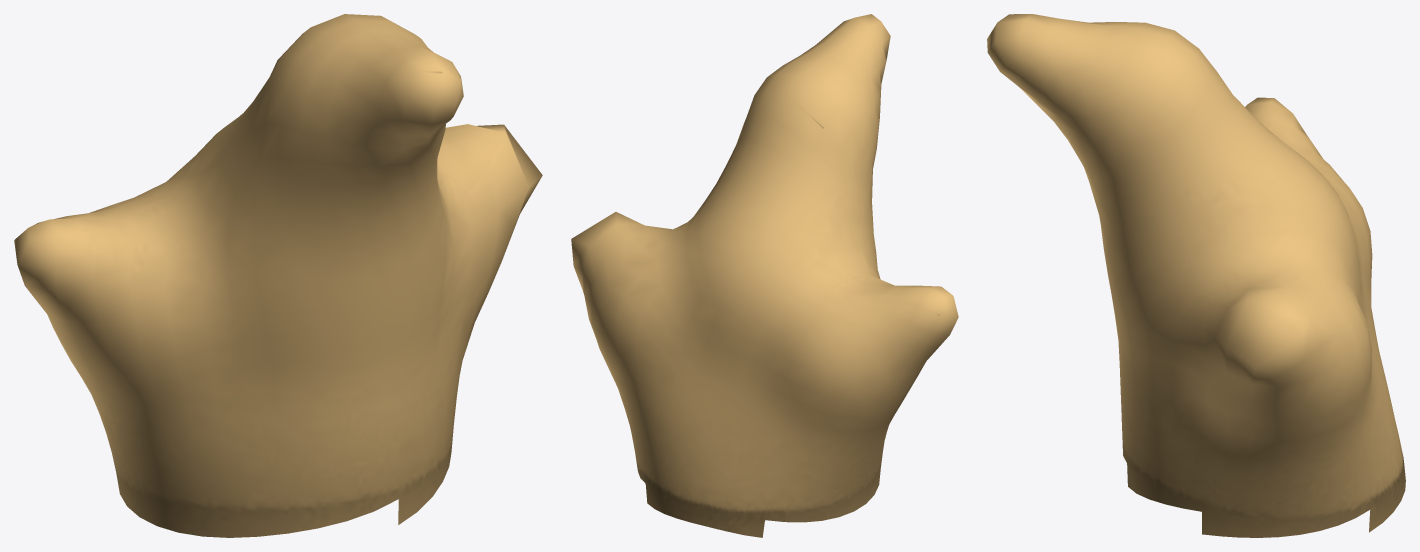
Rendered from hair_tuft.glb.
The picture shows the model from 3 angles, left to right: view 1: azimuth 30°, elevation 25°; view 2: azimuth 150°, elevation 25°; view 3: azimuth 270°, elevation 25°; orthographic projection. The views are drawn at different scales.
Visible parts, largest first — view 1: Tuft; view 2: Tuft; view 3: Tuft.
Part boxes in pixels (<box>): Tuft: <box>14,14,542,537</box>; Tuft: <box>571,14,958,537</box>; Tuft: <box>987,14,1405,537</box>.
Bounding box in the file's own units: 0.1929 × 0.1923 × 0.1538.
1 material, 1 textured.
